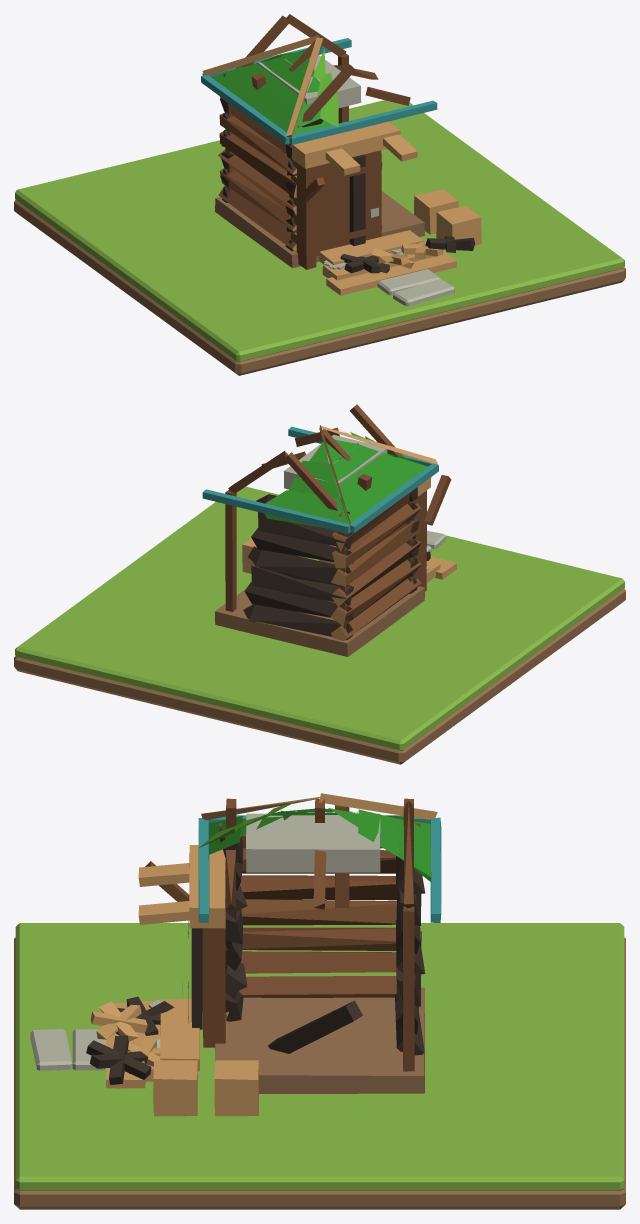
File: town_hall_l01_damaged_LOD2.glb
3 views of the same model, one above another, from view 1: azimuth 30°, elevation 25°; view 2: azimuth 150°, elevation 25°; view 3: azimuth 270°, elevation 25° (orthographic). The views are drawn at different scales.
Parts seen in each view (by area): view 1: town_hall_l01_damaged_grass_tile.001, town_hall_l01_damaged_foundation.001, town_hall_l01_damaged_earth_tile.001, town_hall_l01_damaged_path_stone.005, town_hall_l01_damaged_path_stone.004; view 2: town_hall_l01_damaged_grass_tile.001, town_hall_l01_damaged_foundation.001, town_hall_l01_damaged_earth_tile.001; view 3: town_hall_l01_damaged_grass_tile.001, town_hall_l01_damaged_foundation.001, town_hall_l01_damaged_earth_tile.001, town_hall_l01_damaged_path_stone.005, town_hall_l01_damaged_path_stone.004.
Part boxes in pixels (left/top/right/bottom): town_hall_l01_damaged_grass_tile.001: left=15, top=100, right=624, bottom=361; town_hall_l01_damaged_foundation.001: left=201, top=14, right=481, bottom=295; town_hall_l01_damaged_earth_tile.001: left=14, top=199, right=625, bottom=375; town_hall_l01_damaged_path_stone.005: left=393, top=279, right=454, bottom=306; town_hall_l01_damaged_path_stone.004: left=377, top=269, right=440, bottom=295; town_hall_l01_damaged_grass_tile.001: left=15, top=486, right=624, bottom=750; town_hall_l01_damaged_foundation.001: left=202, top=404, right=456, bottom=656; town_hall_l01_damaged_earth_tile.001: left=14, top=588, right=625, bottom=764; town_hall_l01_damaged_grass_tile.001: left=15, top=923, right=624, bottom=1190; town_hall_l01_damaged_foundation.001: left=86, top=793, right=441, bottom=1116; town_hall_l01_damaged_earth_tile.001: left=14, top=937, right=625, bottom=1209; town_hall_l01_damaged_path_stone.005: left=30, top=1029, right=72, bottom=1070; town_hall_l01_damaged_path_stone.004: left=72, top=1029, right=105, bottom=1070.
Bounding box in the file's own units: 3.6 × 1.88 × 3.6.
